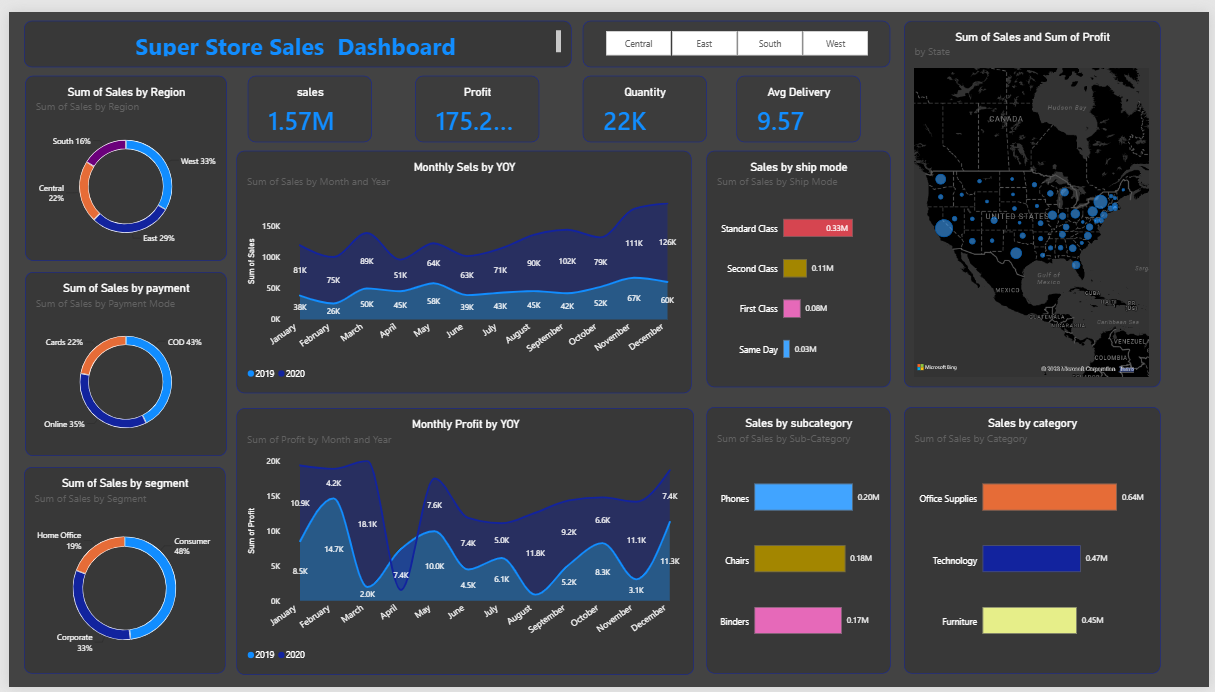

Layout of this report page (visuals, bound fields, positions):
{"tool":"powerbi","page":{"name":"Page 1","canvas":[1920,1080],"ordinal":0},"visuals":[{"type":"clusteredBarChart","title":"Sales by category","fields":{"Category":["SuperStore_Sales_Dataset.Category"],"Y":["Sum(SuperStore_Sales_Dataset.Sales)"]},"box":[1432,632,410,426],"z":0},{"type":"clusteredBarChart","title":"Sales by subcategory","fields":{"Category":["SuperStore_Sales_Dataset.Sub-Category"],"Y":["Sum(SuperStore_Sales_Dataset.Sales)"]},"box":[1116,632,294,426],"z":1000},{"type":"clusteredBarChart","title":"Sales by ship mode","fields":{"Category":["SuperStore_Sales_Dataset.Ship Mode"],"Y":["Sum(SuperStore_Sales_Dataset.Sales)"]},"box":[1116,222,294,378],"z":2000},{"type":"stackedAreaChart","title":"Monthly Sels by YOY","fields":{"Category":["SuperStore_Sales_Dataset.Order Date.Variation.Date Hierarchy.Month"],"Series":["SuperStore_Sales_Dataset.Order Date.Variation.Date Hierarchy.Year"],"Y":["Sum(SuperStore_Sales_Dataset.Sales)"]},"box":[364,222,728,388],"z":3000},{"type":"stackedAreaChart","title":"Monthly Profit by YOY","fields":{"Category":["SuperStore_Sales_Dataset.Order Date.Variation.Date Hierarchy.Month"],"Series":["SuperStore_Sales_Dataset.Order Date.Variation.Date Hierarchy.Year"],"Y":["Sum(SuperStore_Sales_Dataset.Profit)"]},"box":[364,634,732,426],"z":4000},{"type":"map","fields":{"Category":["SuperStore_Sales_Dataset.State"],"Size":["Sum(SuperStore_Sales_Dataset.Sales)"]},"box":[1432,14,410,586],"z":5000},{"type":"donutChart","title":"Sum of Sales by segment","fields":{"Category":["SuperStore_Sales_Dataset.Segment"],"Y":["Sum(SuperStore_Sales_Dataset.Sales)"]},"box":[24,728,322,330],"z":6000},{"type":"donutChart","title":"Sum of Sales by payment","fields":{"Category":["SuperStore_Sales_Dataset.Payment Mode"],"Y":["Sum(SuperStore_Sales_Dataset.Sales)"]},"box":[26,416,322,294],"z":7000},{"type":"donutChart","title":"Sum of Sales by Region","fields":{"Category":["SuperStore_Sales_Dataset.Region"],"Y":["Sum(SuperStore_Sales_Dataset.Sales)"]},"box":[26,102,322,296],"z":8000},{"type":"slicer","fields":{"Values":["SuperStore_Sales_Dataset.Region"]},"box":[918,14,492,74],"z":9000},{"type":"textbox","box":[24,14,876,74],"z":10000},{"type":"cardVisual","title":"sales","fields":{"Data":["Sum(SuperStore_Sales_Dataset.Sales)"]},"box":[382,102,198,106],"z":11000},{"type":"cardVisual","title":"Profit","fields":{"Data":["Sum(SuperStore_Sales_Dataset.Profit)"]},"box":[650,102,198,106],"z":12000},{"type":"cardVisual","title":"Quantity","fields":{"Data":["Sum(SuperStore_Sales_Dataset.Quantity)"]},"box":[918,102,198,106],"z":13000},{"type":"cardVisual","title":"Avg  Delivery","fields":{"Data":["Avg(SuperStore_Sales_Dataset.AvgDelivery)"]},"box":[1164,102,198,106],"z":14000}]}

Visuals, with their boxes in screenshot pixels (x1, y1, x2, y2), scaled from the page's 1920x1080 canvas onto the 1215x692 screenshot:
"Sales by category" clusteredBarChart: 906 405 1166 678
"Sales by subcategory" clusteredBarChart: 706 405 892 678
"Sales by ship mode" clusteredBarChart: 706 142 892 384
"Monthly Sels by YOY" stackedAreaChart: 230 142 691 391
"Monthly Profit by YOY" stackedAreaChart: 230 406 694 679
map - SuperStore_Sales_Dataset.State x Sum(SuperStore_Sales_Dataset.Sales): 906 9 1166 384
"Sum of Sales by segment" donutChart: 15 466 219 678
"Sum of Sales by payment" donutChart: 16 267 220 455
"Sum of Sales by Region" donutChart: 16 65 220 255
slicer - SuperStore_Sales_Dataset.Region: 581 9 892 56
textbox: 15 9 570 56
"sales" cardVisual: 242 65 367 133
"Profit" cardVisual: 411 65 537 133
"Quantity" cardVisual: 581 65 706 133
"Avg  Delivery" cardVisual: 737 65 862 133
